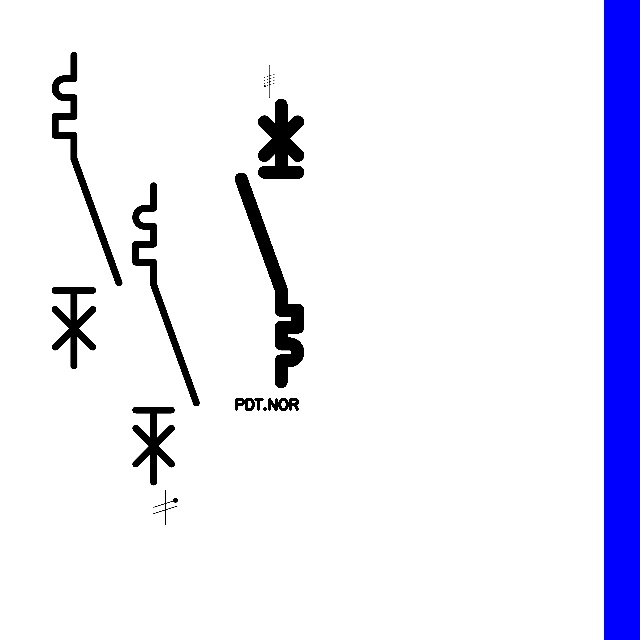interruptor_termomagnetico: (47, 47, 127, 374), (128, 178, 204, 489), (234, 97, 305, 388)
